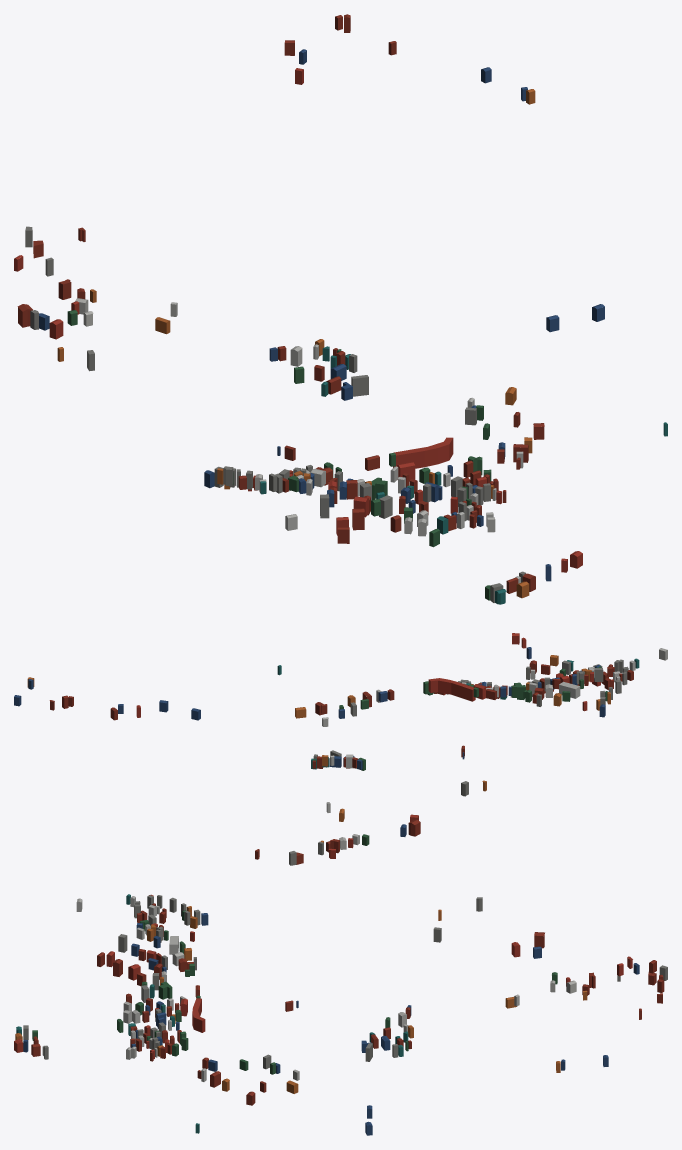
Rendered from near-15-27367-14873.9c96f92d.glb.
The picture shows the model from 3 angles, top to bottom: view 1: azimuth 30°, elevation 25°; view 2: azimuth 150°, elevation 25°; view 3: azimuth 270°, elevation 25°; orthographic projection. The views are drawn at different scales.
Size of the model in its own units: 877 by 326 by 1166.
